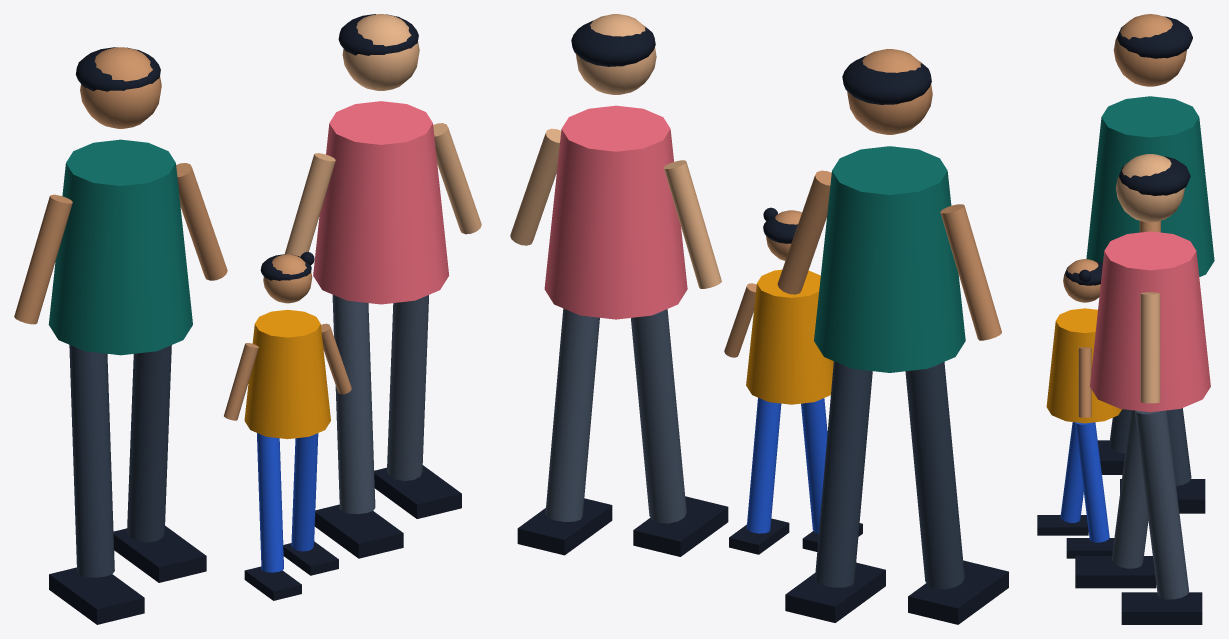
3 renders of one model, left to right at view 1: azimuth 30°, elevation 25°; view 2: azimuth 150°, elevation 25°; view 3: azimuth 270°, elevation 25°, orthographic. The views are drawn at different scales.
Parts seen in each view (by area): view 1: people-family; view 2: people-family; view 3: people-family.
Boxes of the visible parts, x1,y1,x2,y2 form: people-family: [14, 14, 481, 624]; people-family: [510, 14, 1008, 624]; people-family: [1037, 14, 1214, 624].
Bounding box in the file's own units: 1.61 × 1.74 × 0.5968.
